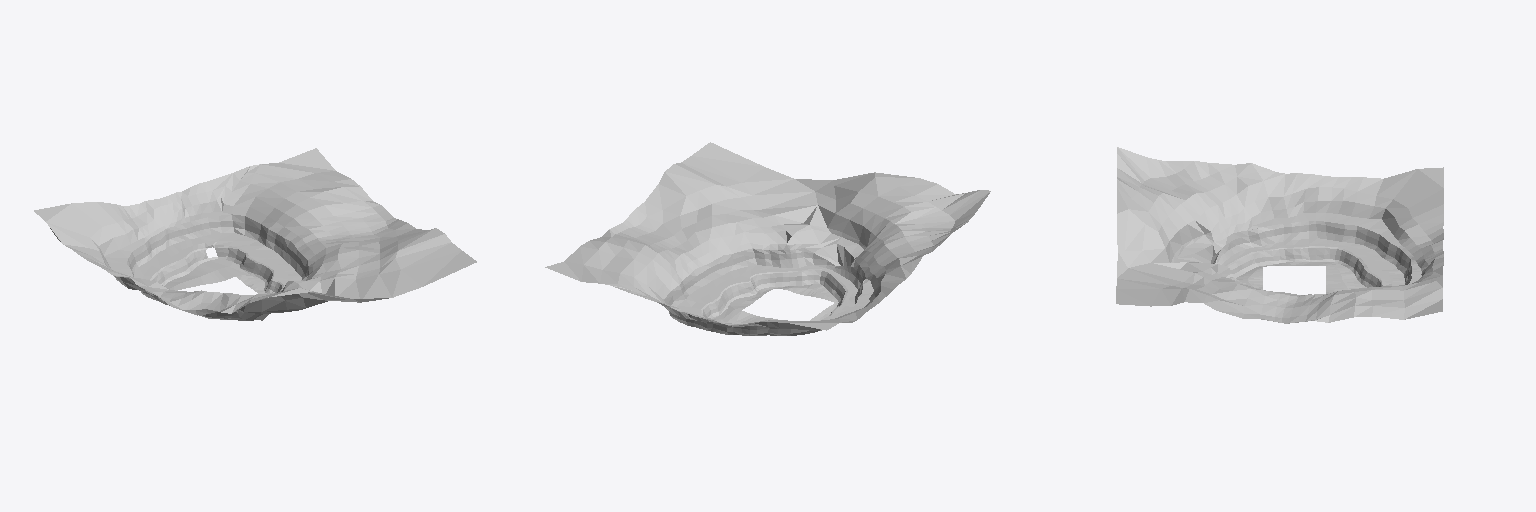
Rendered from Low Poly Land.obj.
3 renders of one model, left to right at view 1: azimuth 30°, elevation 25°; view 2: azimuth 150°, elevation 25°; view 3: azimuth 270°, elevation 25°, orthographic.
Visible parts, largest first — view 1: polySurface13, polySurface12; view 2: polySurface13, polySurface12; view 3: polySurface13, polySurface12.
Boxes of the visible parts, x1,y1,x2,y2 form: polySurface13: [34, 148, 476, 320]; polySurface12: [104, 212, 301, 293]; polySurface13: [545, 142, 990, 335]; polySurface12: [677, 237, 873, 324]; polySurface13: [1116, 147, 1443, 323]; polySurface12: [1178, 213, 1421, 293].
Bounding box in the file's own units: 456 × 123 × 456.